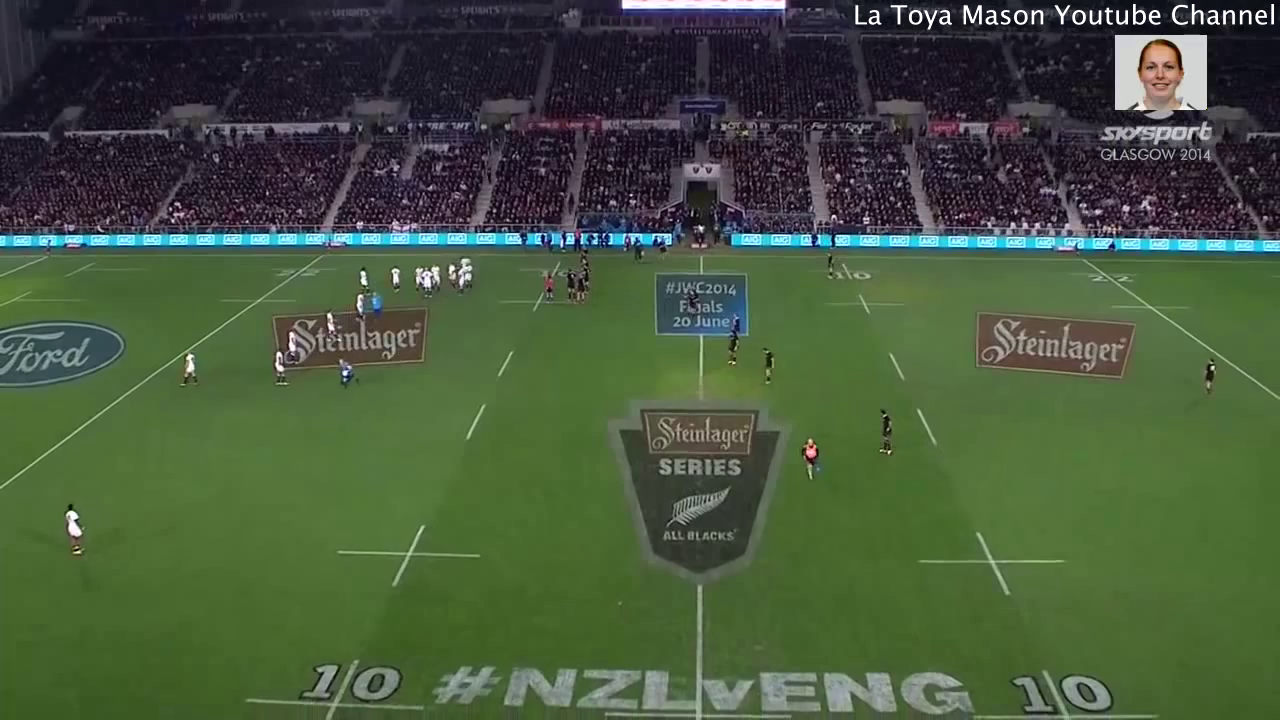10_metre: (912, 528, 1073, 605), (335, 520, 486, 595), (823, 293, 905, 318)
player: (59, 500, 95, 562), (797, 432, 827, 484), (175, 345, 203, 388), (333, 356, 362, 390), (876, 408, 895, 459), (270, 348, 293, 390), (319, 304, 342, 346), (759, 342, 776, 387), (285, 326, 302, 365), (1205, 354, 1220, 396), (821, 253, 841, 283), (725, 331, 741, 368), (351, 292, 367, 326), (542, 271, 558, 305), (686, 286, 701, 322), (419, 265, 434, 298), (388, 263, 404, 293), (369, 289, 384, 320), (357, 264, 373, 292), (563, 266, 574, 302), (730, 313, 743, 343), (462, 265, 477, 289), (575, 272, 585, 305), (411, 262, 423, 289), (430, 263, 441, 291), (455, 268, 466, 294), (656, 244, 670, 264), (633, 242, 644, 266), (444, 260, 454, 286), (458, 255, 471, 275), (581, 268, 590, 290), (582, 256, 591, 276), (581, 246, 590, 261)
